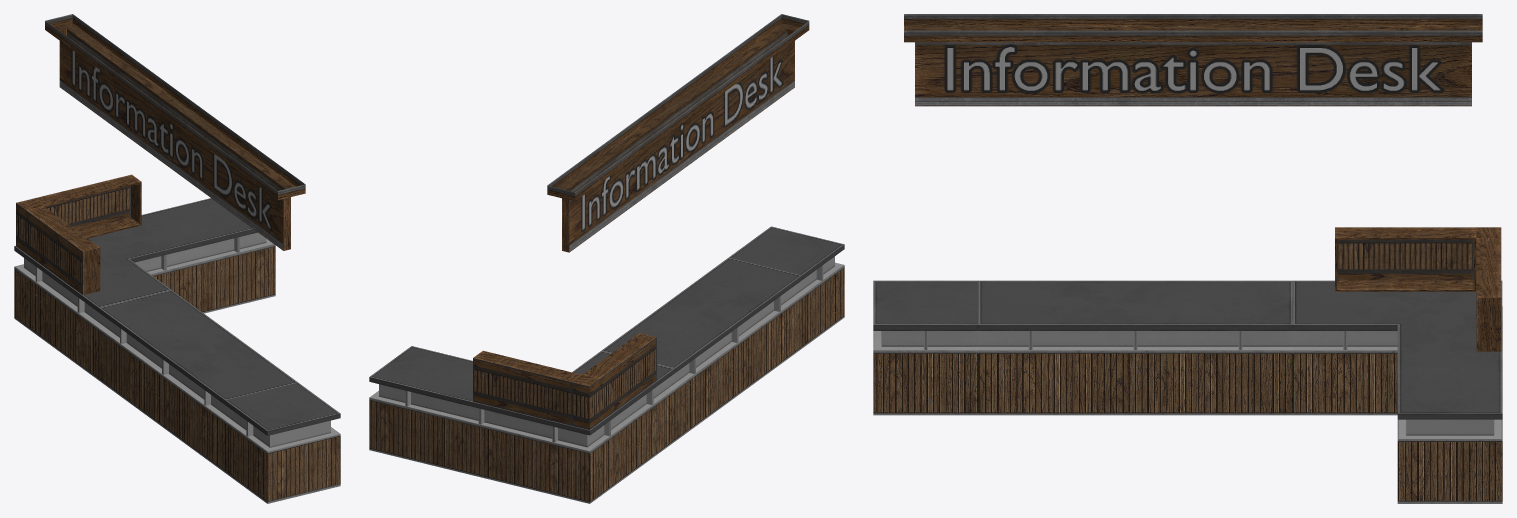
Rendered from HH_Information_Desk.fbx.
3 views of the same model, side by side, from view 1: azimuth 30°, elevation 25°; view 2: azimuth 150°, elevation 25°; view 3: azimuth 270°, elevation 25° (orthographic). The views are drawn at different scales.
Visible parts, largest first — view 1: HH_Information_Desk; view 2: HH_Information_Desk; view 3: HH_Information_Desk.
Part boxes in pixels (bbox=[...]): HH_Information_Desk: bbox=[14, 14, 340, 503]; HH_Information_Desk: bbox=[369, 14, 844, 503]; HH_Information_Desk: bbox=[873, 14, 1502, 503].
Size of what is drawn, in the model's own units: 300 by 390 by 600.
